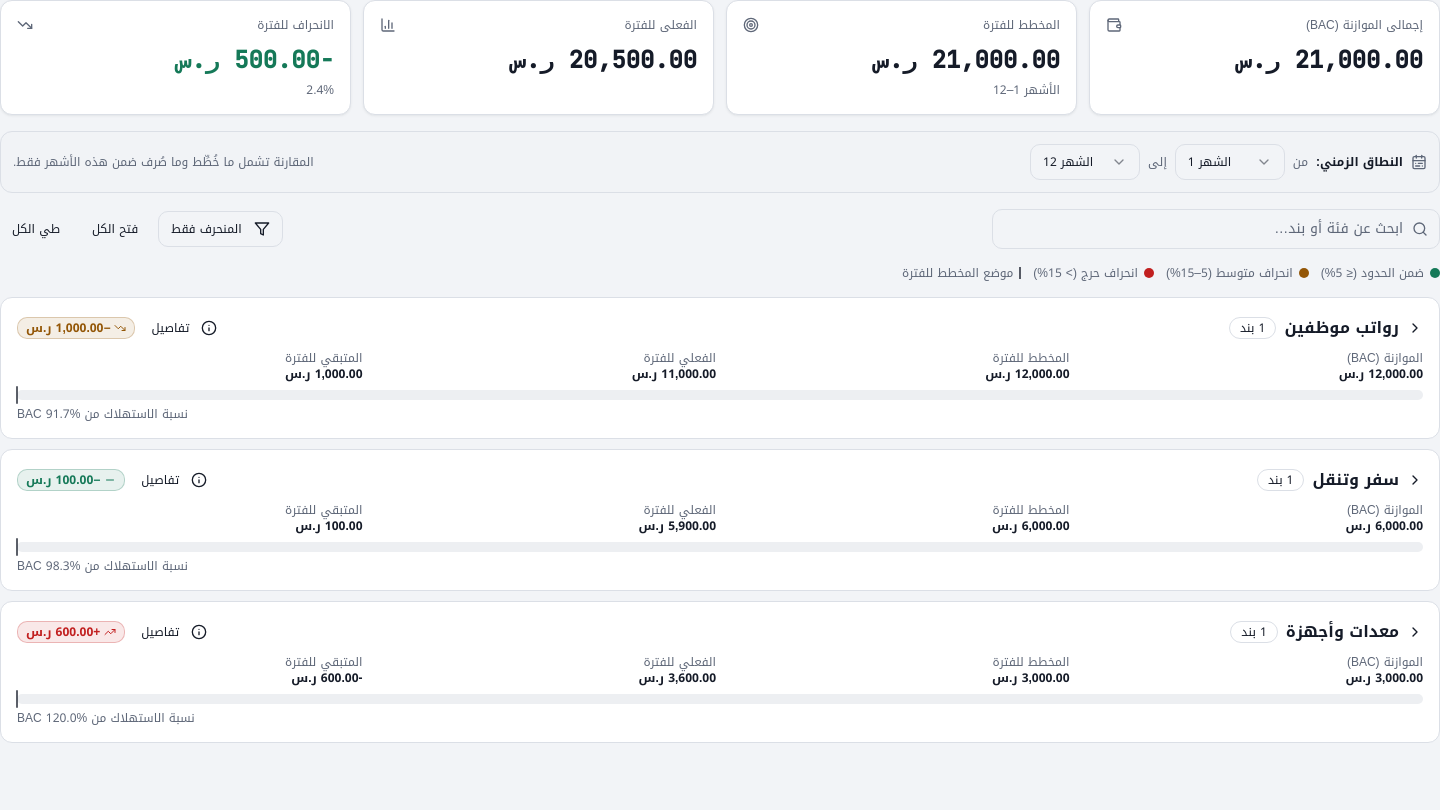
the details dialog › opens a group with its items and the counted expenses in the range
Step 1. Click the 1st button "تفاصيل" → point(184, 328), box [144, 314, 225, 342]
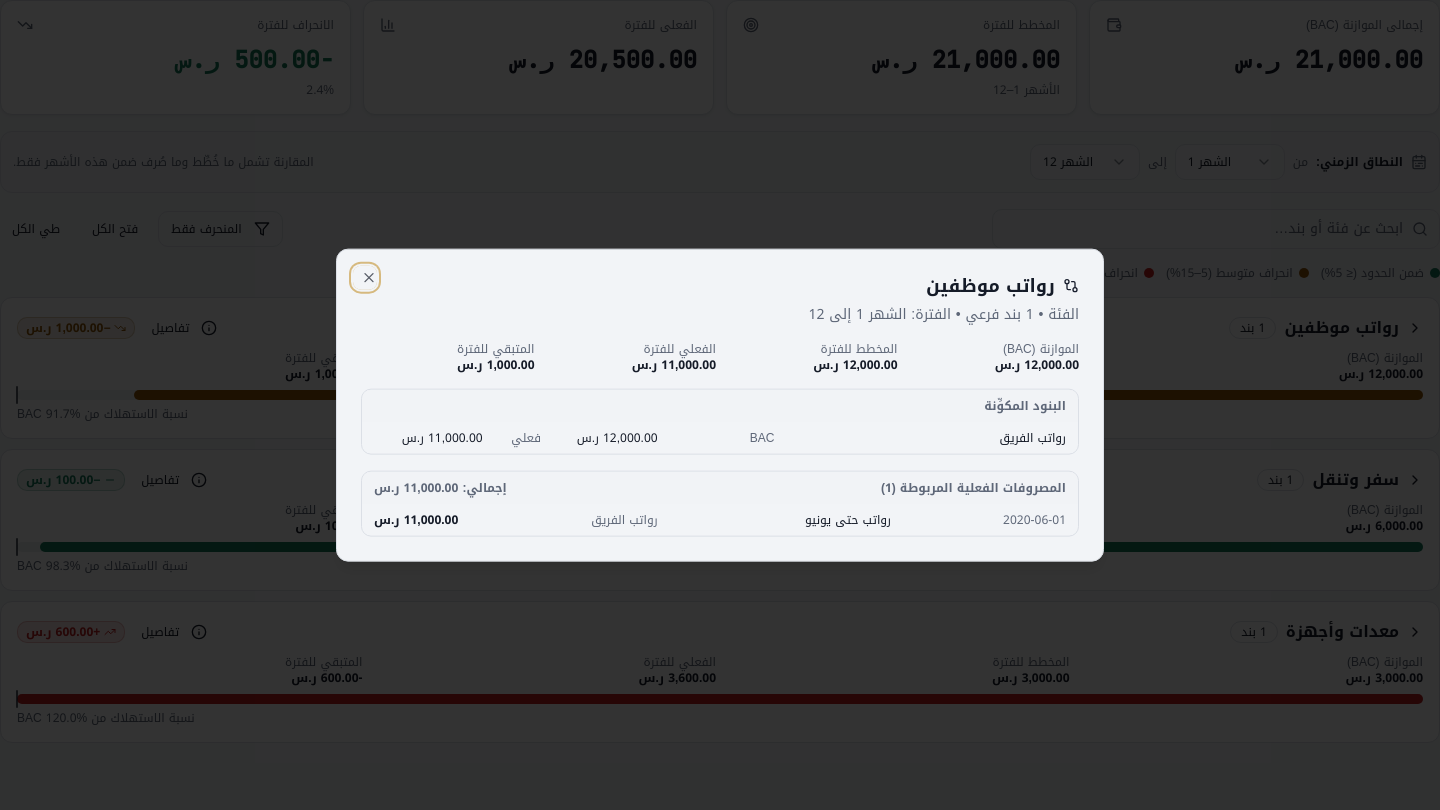
Result: the text "الفئة • 1 بند فرعي • الفترة: الشهر 1 إلى 12" is shown at [808, 300, 1079, 327]
Result: the text "المصروفات الفعلية المربوطة (1)" is shown at [881, 479, 1066, 495]
Result: the text "إجمالي: 11,000.00 ر.س" is shown at [374, 479, 507, 495]
